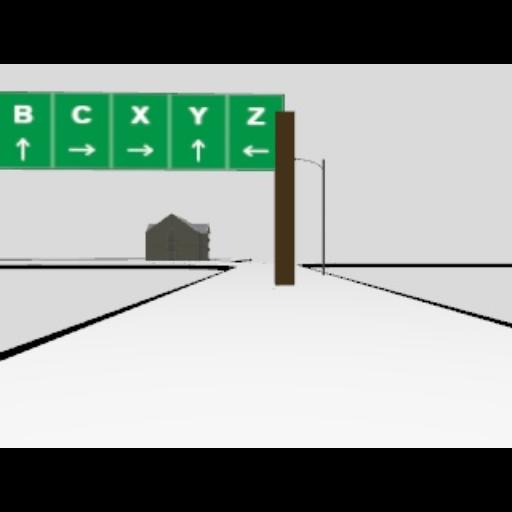B: (12, 104, 32, 124)
C: (70, 104, 92, 124)
Left: (242, 144, 270, 156)
Right: (125, 143, 155, 157), (66, 143, 96, 157)
Straight: (190, 138, 206, 162), (14, 136, 30, 160)
X: (130, 104, 148, 124)
Y: (188, 104, 208, 124)
Z: (244, 106, 266, 124)
